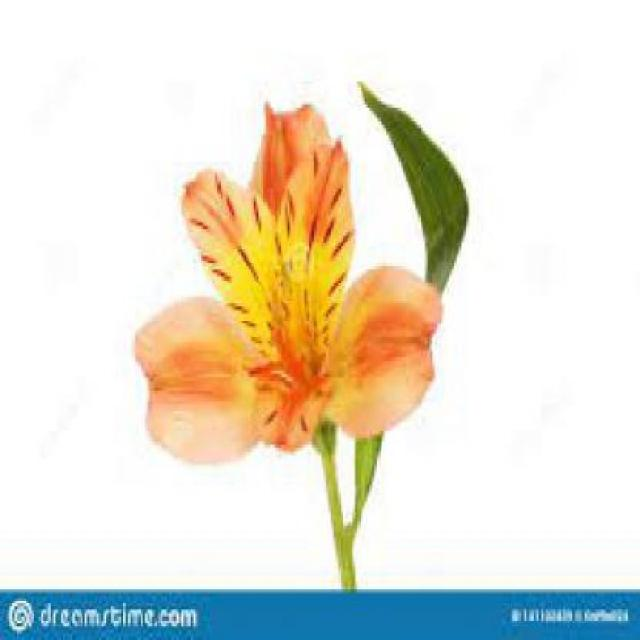Flower: (133, 101, 442, 465)
